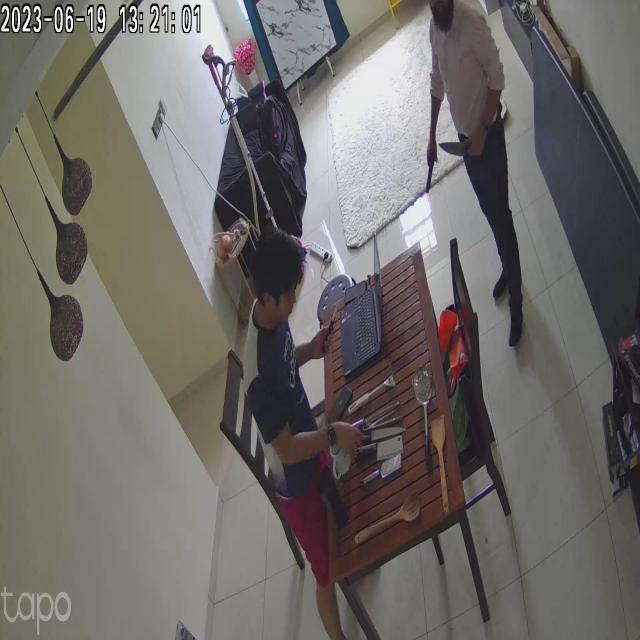Gun: (424, 152, 444, 195)
Knife: (435, 132, 494, 166)
